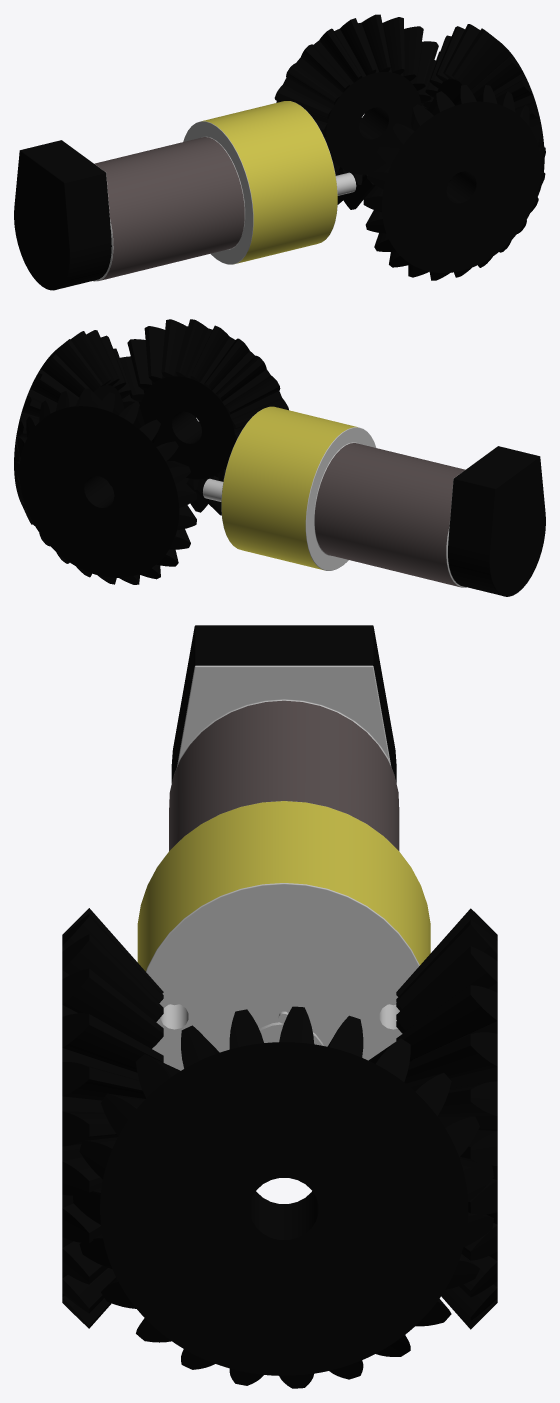
The model's file is Parte_6x.DAE.
The picture shows the model from 3 angles, top to bottom: view 1: azimuth 30°, elevation 25°; view 2: azimuth 150°, elevation 25°; view 3: azimuth 270°, elevation 25°; orthographic projection. The views are drawn at different scales.
Visible parts, largest first — view 1: Motor 1_3, Bevel Gear2_1_ncl1_1, Bevel Gear1_1, Bevel Gear2_1; view 2: Motor 1_3, Bevel Gear1_1, Bevel Gear2_1_ncl1_1, Bevel Gear2_1; view 3: Bevel Gear2_1, Motor 1_3, Bevel Gear2_1_ncl1_1, Bevel Gear1_1.
Part boxes in pixels (x1,y1,x2,y2): Motor 1_3: (14, 101, 356, 290); Bevel Gear2_1_ncl1_1: (363, 85, 545, 280); Bevel Gear1_1: (274, 14, 438, 209); Bevel Gear2_1: (423, 24, 544, 196); Motor 1_3: (203, 406, 545, 596); Bevel Gear1_1: (14, 388, 196, 584); Bevel Gear2_1_ncl1_1: (120, 319, 288, 515); Bevel Gear2_1: (14, 330, 134, 524); Bevel Gear2_1: (73, 1006, 493, 1388); Motor 1_3: (137, 625, 430, 1070); Bevel Gear2_1_ncl1_1: (62, 908, 163, 1328); Bevel Gear1_1: (396, 908, 497, 1329).
Size of the model in its own units: 0.183 by 0.0732 by 0.0755.
